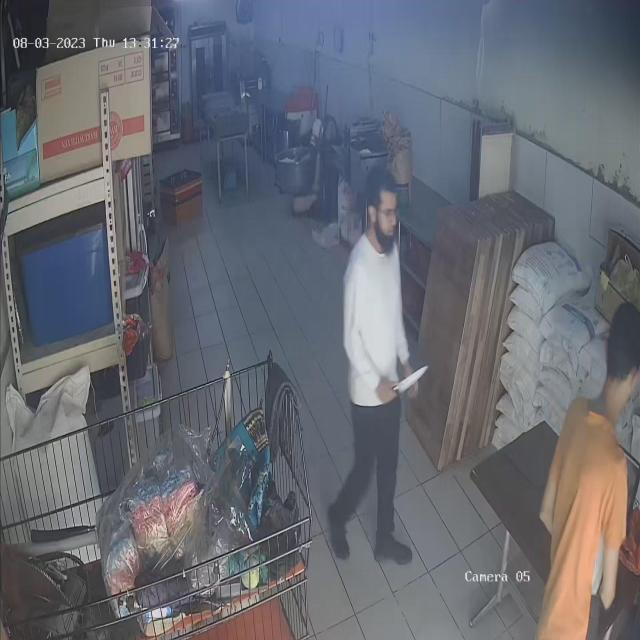Knife: (380, 352, 432, 408)
